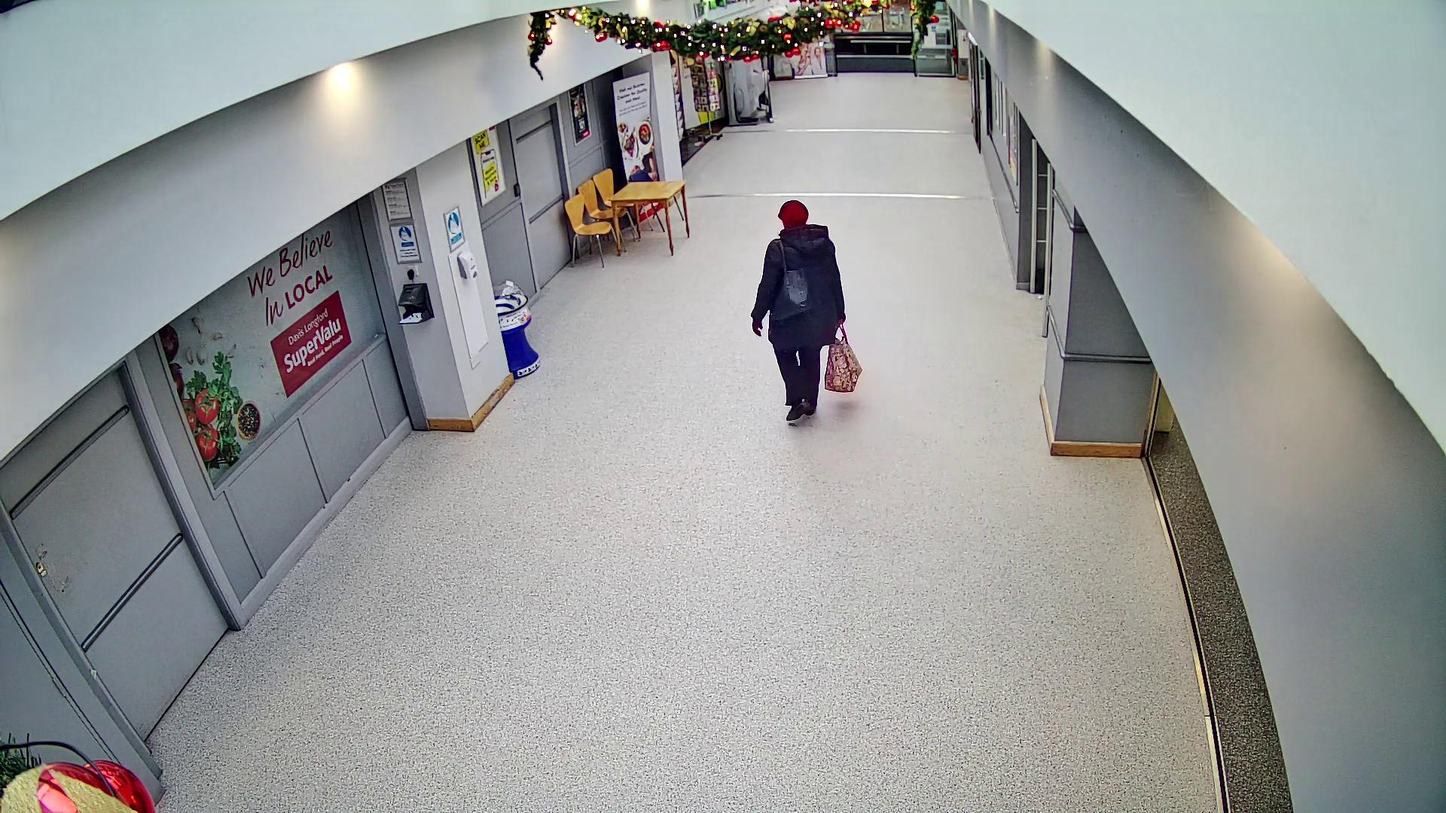backpack-or-handbag: (762, 265, 813, 324)
filled-shopping-bags: (824, 322, 861, 393)
person: (751, 200, 847, 422)
person-with-backpack-handbag-and-shopping-bag-s-: (752, 199, 862, 424)
